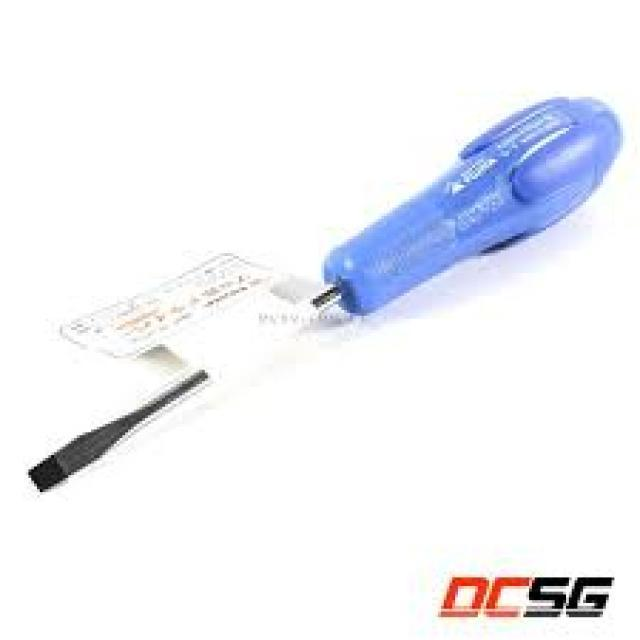screwdriver: (23, 90, 623, 497)
